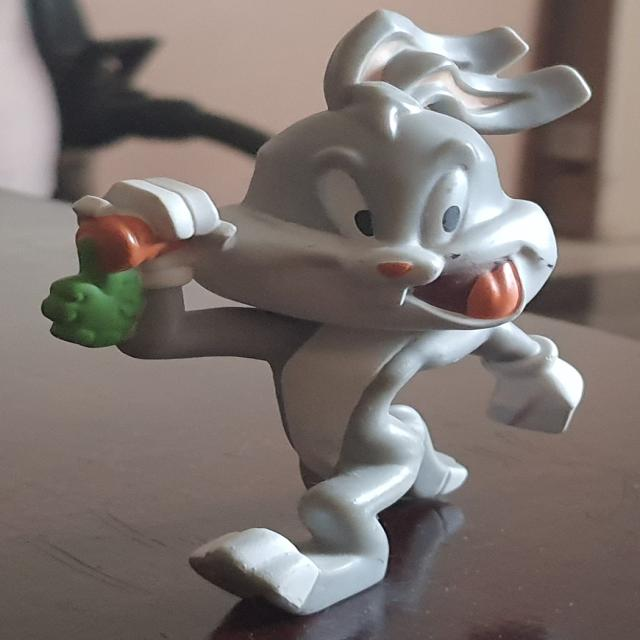Rabbit: (41, 8, 594, 617)
